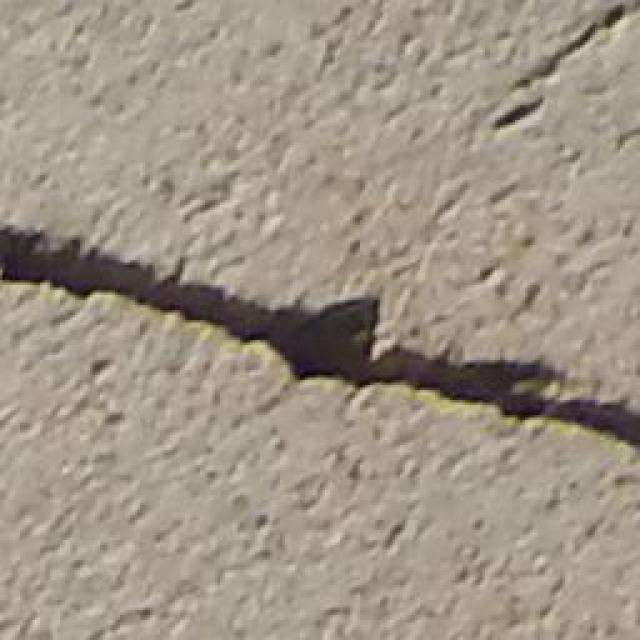concrete-crack: (0, 216, 640, 459), (515, 1, 639, 92), (493, 92, 550, 133)
